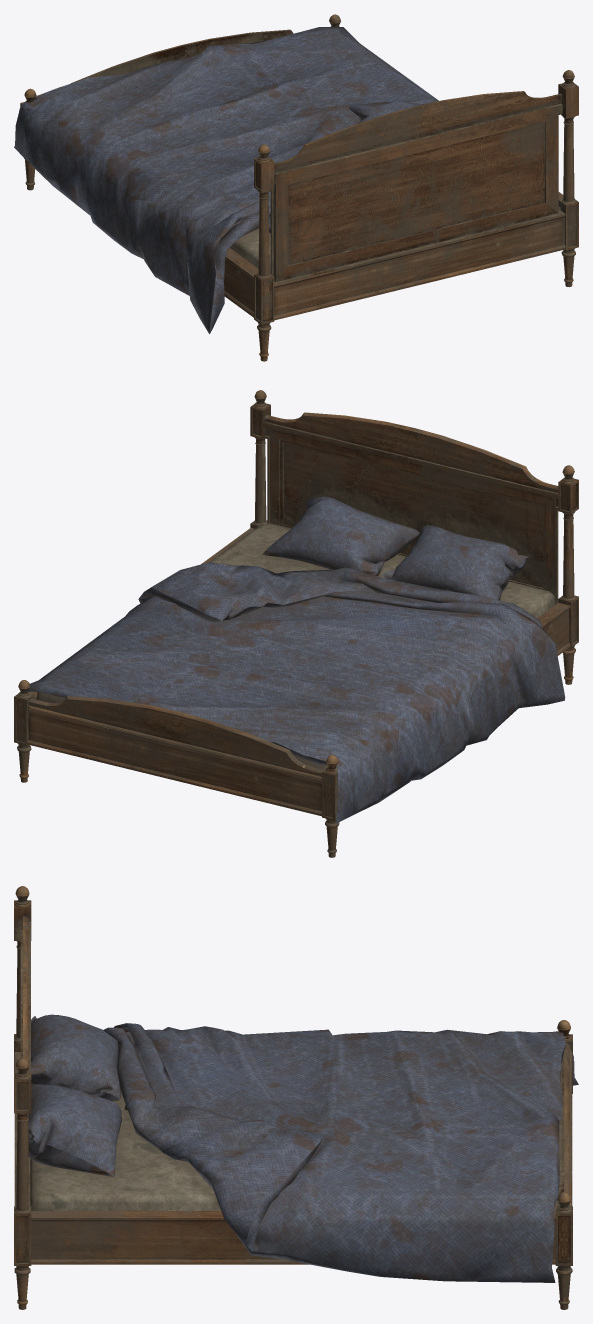
The model's file is bed.obj.
3 renders of one model, top to bottom at view 1: azimuth 30°, elevation 25°; view 2: azimuth 150°, elevation 25°; view 3: azimuth 270°, elevation 25°, orthographic. The views are drawn at different scales.
Visible parts, largest first — view 1: SM_Bed_02; view 2: SM_Bed_02; view 3: SM_Bed_02.
Part boxes in pixels (box(x1,y1,x2,y2)): SM_Bed_02: box(14, 14, 578, 361); SM_Bed_02: box(14, 390, 578, 857); SM_Bed_02: box(14, 886, 578, 1309).
Size of the model in its own units: 235 by 139 by 284.
3 materials, 3 textured.
